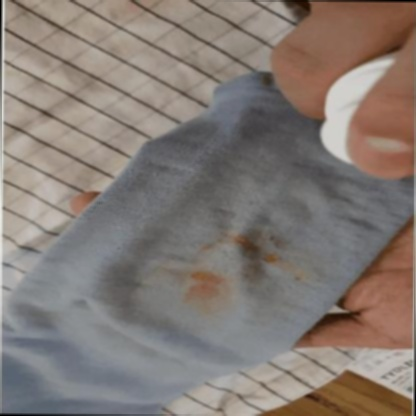kimchi: (186, 262, 224, 312), (258, 254, 309, 285), (236, 235, 266, 263), (267, 230, 290, 253), (195, 239, 218, 258)
